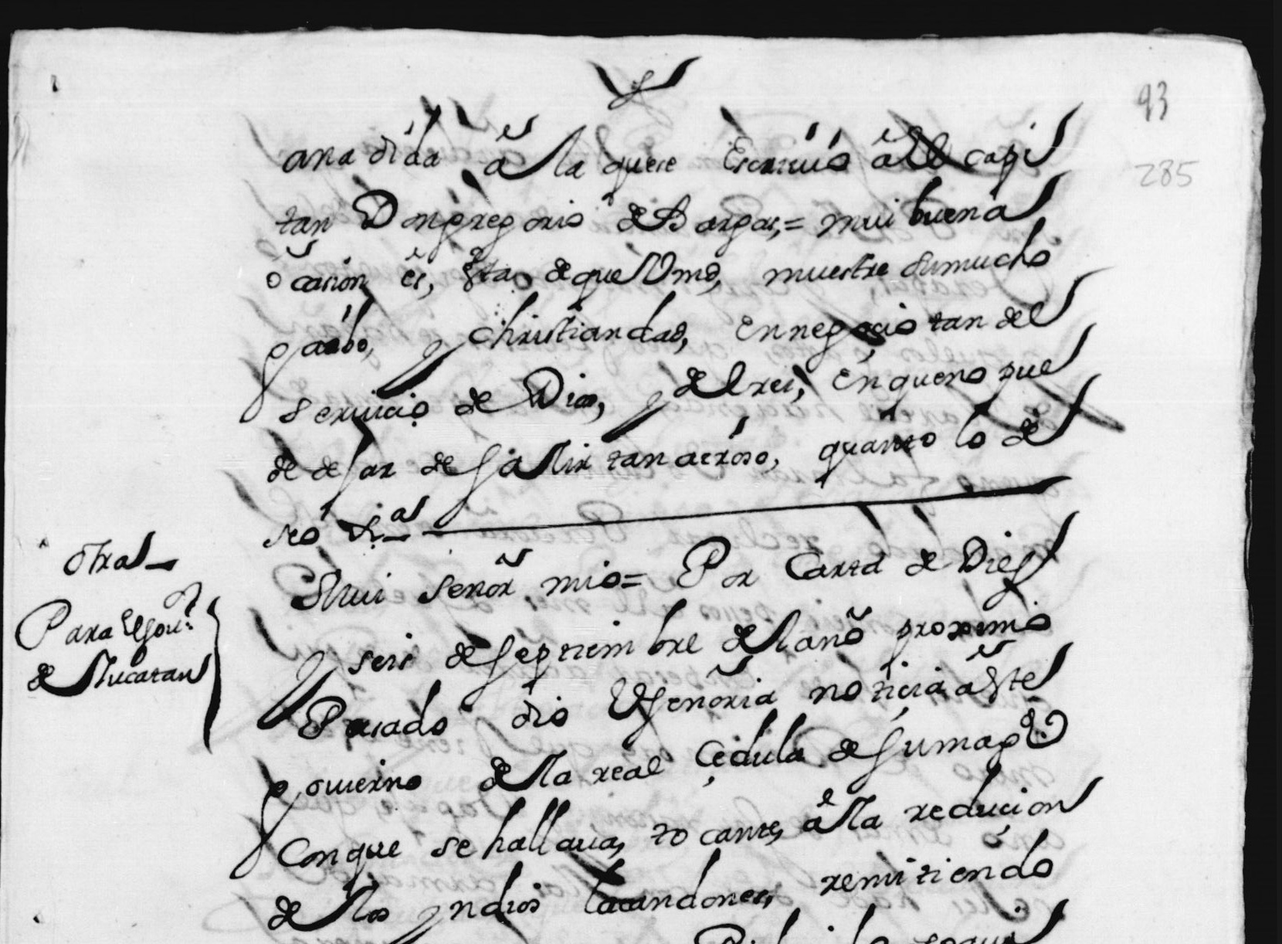lacandon: (584, 847, 768, 915)
